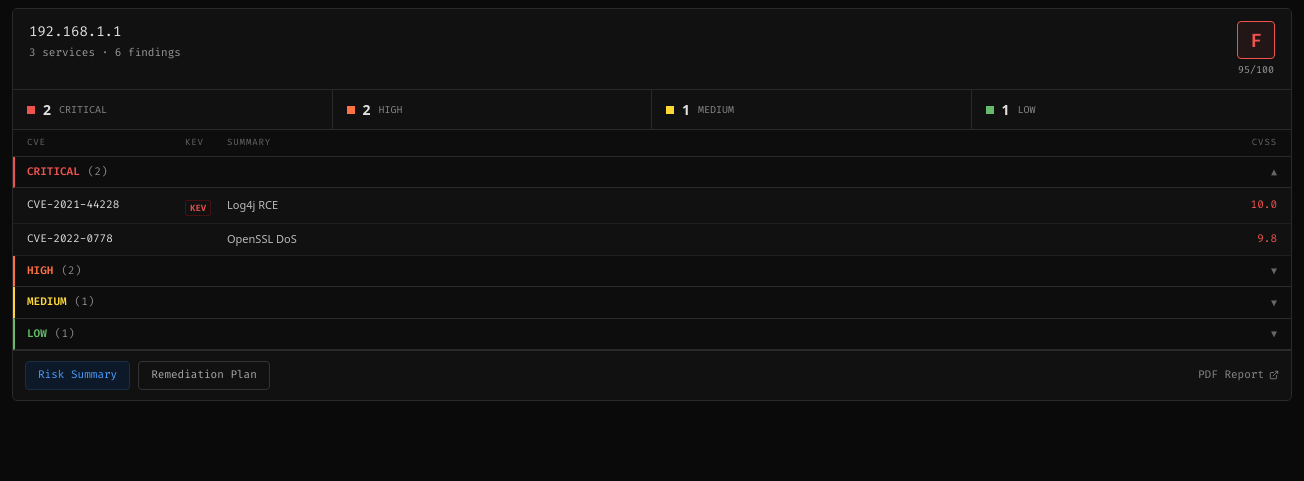
it: ScanCard › expands HIGH group when header is clicked
Step 1. Click the button with test id "group-header-HIGH" → (40, 270), box [13,256,1291,287]
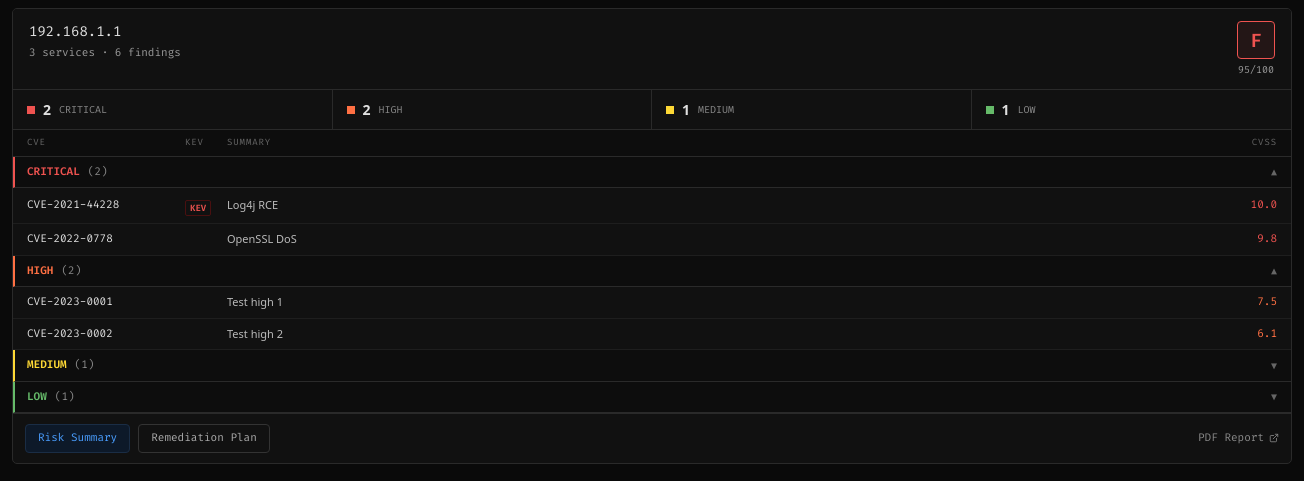
Expected: the element with test id "cve-row-CVE-2023-0001" is shown, [13,287,1291,318]
Expected: the element with test id "cve-row-CVE-2023-0002" is shown, [13,318,1291,350]
